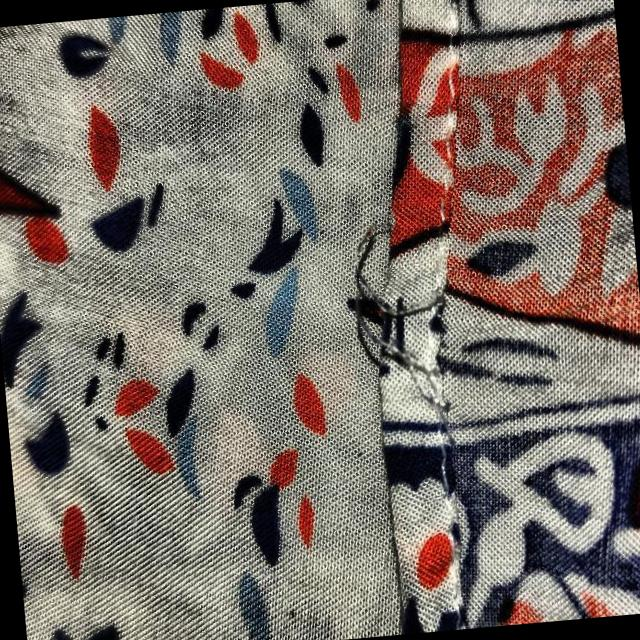gray stitch: (313, 200, 482, 486)
